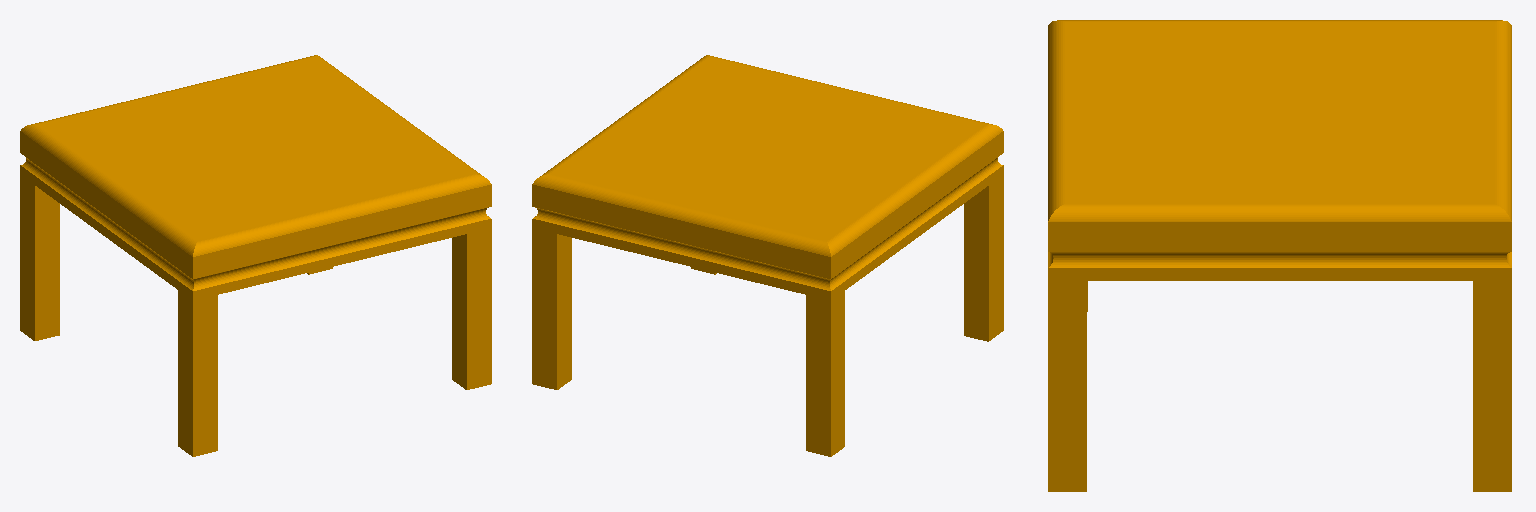
The robot description file, URDF, robot "end_table_01":
<?xml version="1.0" ?>
<robot name="end_table_01">
  <link name="baseLink">
    <contact>
      <lateral_friction value="1.0"/>
      <inertia_scaling value="3.0"/>
    </contact>
    <inertial>
      <origin rpy="0 0 0" xyz="-0.000 -0.000 -0.250"/>
       <mass value=".1"/>
       <inertia ixx="1" ixy="0.0" ixz="0.0" iyy="1" iyz="0.0" izz="1"/>
    </inertial>
    <visual>
      <origin rpy="0 0 0" xyz="0 0 0"/>
      <geometry>
        <mesh filename="visual.obj" scale="1.000 1.000 1.000"/>
      </geometry>
      <material name="texture_material">
            <texture filename="texture.png"/>
      </material>
    </visual>
    <collision>
      <origin rpy="0 0 0" xyz="0 0 0"/>
      <geometry>
        <mesh filename="visual.obj" scale="1.000 1.000 1.000"/>
      </geometry>
    </collision>
  </link>
</robot>
        

--- Render facts (derived) ---
The picture shows the robot from 3 angles, left to right: view 1: azimuth 30°, elevation 25°; view 2: azimuth 150°, elevation 25°; view 3: azimuth 270°, elevation 25°; orthographic projection.
Model end_table_01 with 1 links and 0 joints (none), rooted at baseLink, posed every joint at zero.
Links seen in each view (by area): view 1: baseLink; view 2: baseLink; view 3: baseLink.
Link boxes in pixels (<box>): baseLink: <box>20,55,491,456</box>; baseLink: <box>532,55,1003,456</box>; baseLink: <box>1048,20,1511,491</box>.
Size in the robot's own frame: 0.75 by 0.75 by 0.5 metres.
Meshes: 1 distinct files referenced, 1 mesh visuals loaded (1 OBJ).
